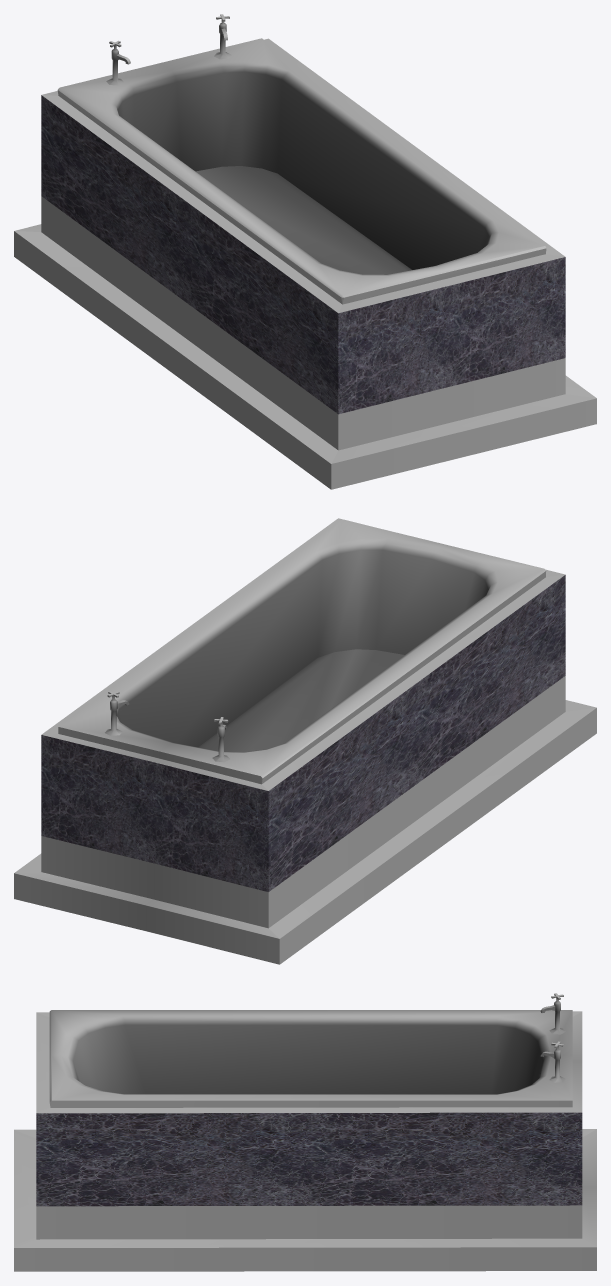
Rendered from Prop_Bath_01.FBX.
The picture shows the model from 3 angles, top to bottom: view 1: azimuth 30°, elevation 25°; view 2: azimuth 150°, elevation 25°; view 3: azimuth 270°, elevation 25°; orthographic projection. The views are drawn at different scales.
Parts seen in each view (by area): view 1: Prop_Bath_01; view 2: Prop_Bath_01; view 3: Prop_Bath_01.
Boxes of the visible parts, bbox=[...] form: Prop_Bath_01: bbox=[14, 14, 596, 489]; Prop_Bath_01: bbox=[14, 518, 596, 964]; Prop_Bath_01: bbox=[14, 993, 596, 1271].
Bounding box in the file's own units: 1.14 × 0.8614 × 2.35.
